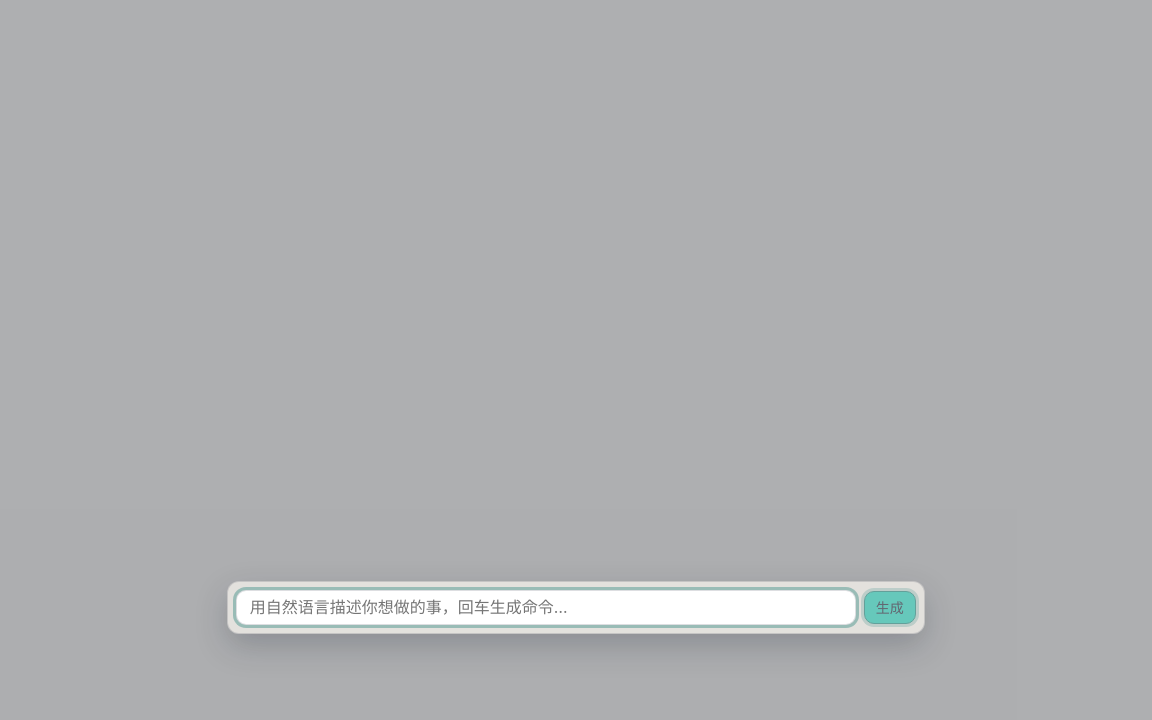
Test: 输入条渲染面 › 空输入：生成按钮禁用；输入后使能
Expected: the button with test id "nl2cmd-run" is disabled, top-left (864, 591), bottom-right (916, 624)
Type "列出容器" into the field with test id "nl2cmd-input" at [546, 607], box top-left (236, 590), bottom-right (856, 625)
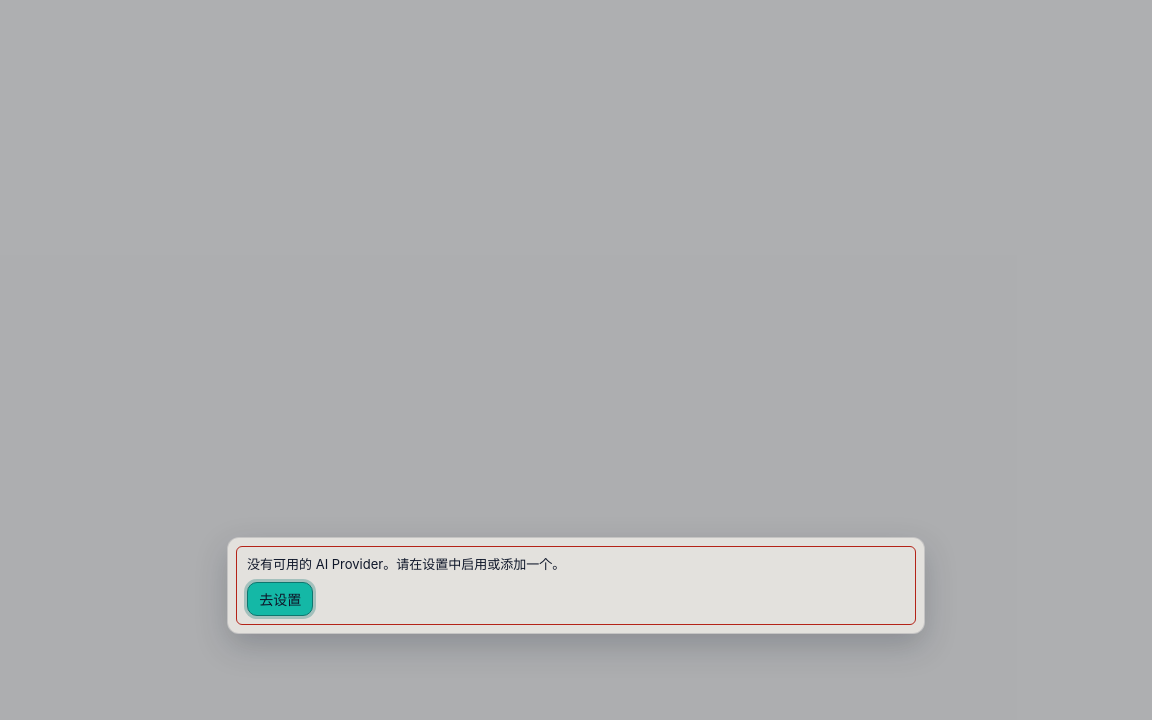
Result: the button with test id "nl2cmd-run" is enabled at top-left (247, 582), bottom-right (313, 616)
